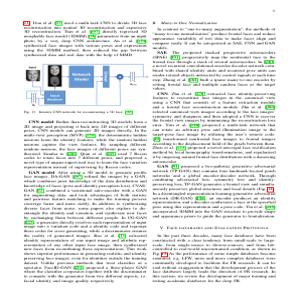diagram: (18, 62, 150, 110)
text: (152, 20, 280, 287), (20, 117, 149, 285), (18, 18, 151, 59)
